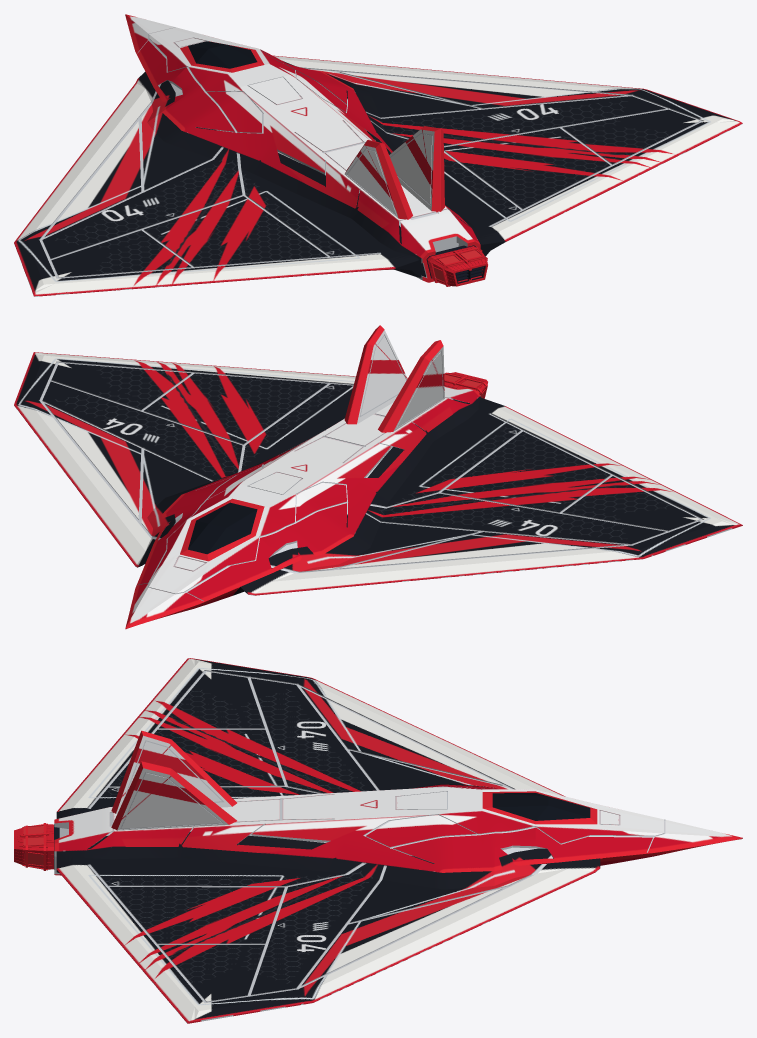
File: racing-red.glb
3 views of the same model, one above another, from view 1: azimuth 30°, elevation 25°; view 2: azimuth 150°, elevation 25°; view 3: azimuth 270°, elevation 25° (orthographic). The views are drawn at different scales.
Parts seen in each view (by area): view 1: CENTER_AF04_BODY_CENTER, STYLE_A_TWIN_FIN_1, STYLE_A_TWIN_FIN_-1, CENTER_AF04_CANOPY_0, CENTER_AF04_CENTER_CANOPY_FRAME_USER; view 2: CENTER_AF04_BODY_CENTER, STYLE_A_TWIN_FIN_1, STYLE_A_TWIN_FIN_-1, CENTER_AF04_CANOPY_0, CENTER_AF04_CENTER_CANOPY_FRAME_USER; view 3: CENTER_AF04_BODY_CENTER, STYLE_A_TWIN_FIN_1, STYLE_A_TWIN_FIN_-1, CENTER_AF04_CANOPY_0, CENTER_AF04_CENTER_CANOPY_FRAME_USER.
Part boxes in pixels (<box>): CENTER_AF04_BODY_CENTER: <box>14,14,742,296</box>; STYLE_A_TWIN_FIN_1: <box>389,126,444,212</box>; STYLE_A_TWIN_FIN_-1: <box>344,140,412,219</box>; CENTER_AF04_CANOPY_0: <box>188,41,257,68</box>; CENTER_AF04_CENTER_CANOPY_FRAME_USER: <box>180,41,264,72</box>; CENTER_AF04_BODY_CENTER: <box>14,352,742,629</box>; STYLE_A_TWIN_FIN_1: <box>344,325,407,424</box>; STYLE_A_TWIN_FIN_-1: <box>378,340,444,432</box>; CENTER_AF04_CANOPY_0: <box>188,502,257,554</box>; CENTER_AF04_CENTER_CANOPY_FRAME_USER: <box>180,498,264,561</box>; CENTER_AF04_BODY_CENTER: <box>54,658,742,1023</box>; STYLE_A_TWIN_FIN_1: <box>111,761,236,830</box>; STYLE_A_TWIN_FIN_-1: <box>111,730,236,813</box>; CENTER_AF04_CANOPY_0: <box>492,793,590,820</box>; CENTER_AF04_CENTER_CANOPY_FRAME_USER: <box>482,791,597,824</box>.
Size of the model in its own units: 15.89 by 2.51 by 13.42.
12 materials, 3 textured.
